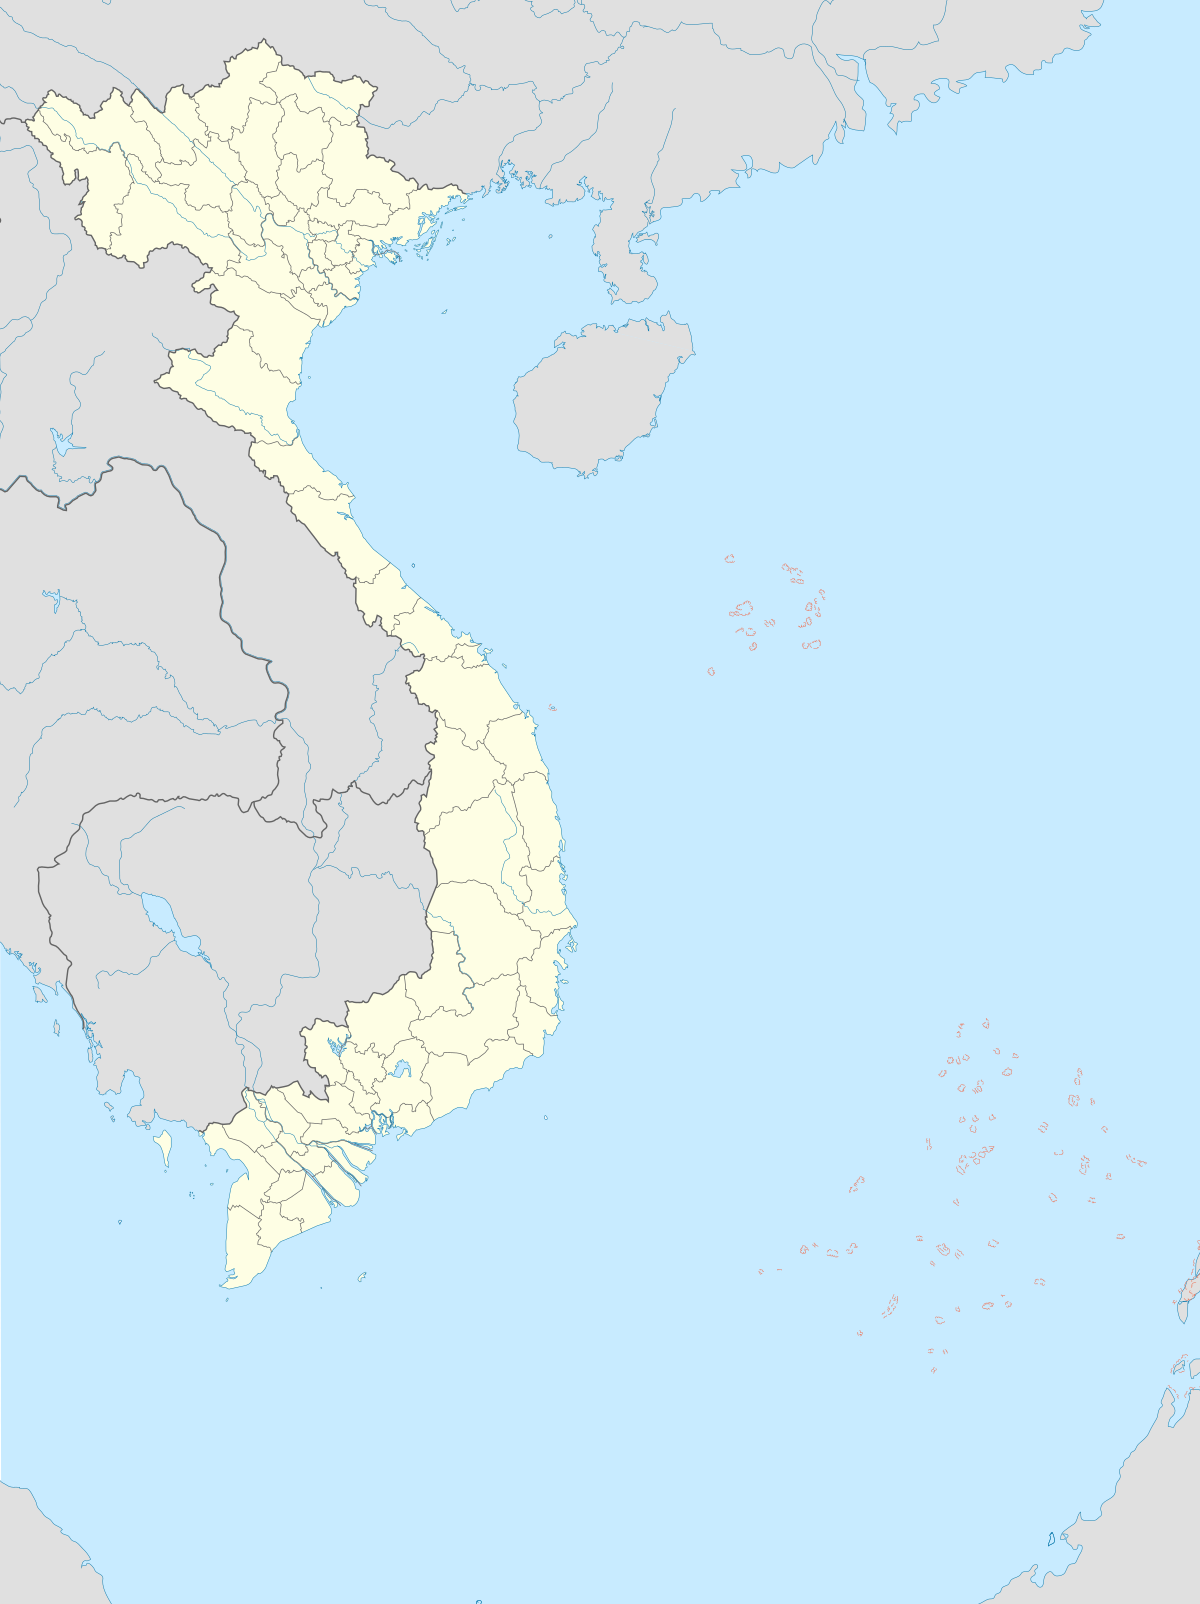Island: (780, 1005, 1156, 1373), (673, 518, 868, 711)
